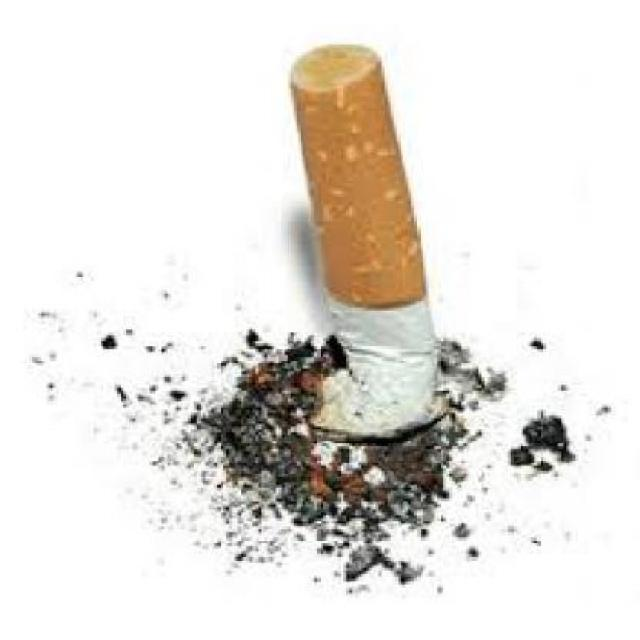cigarette: (273, 47, 476, 458)
